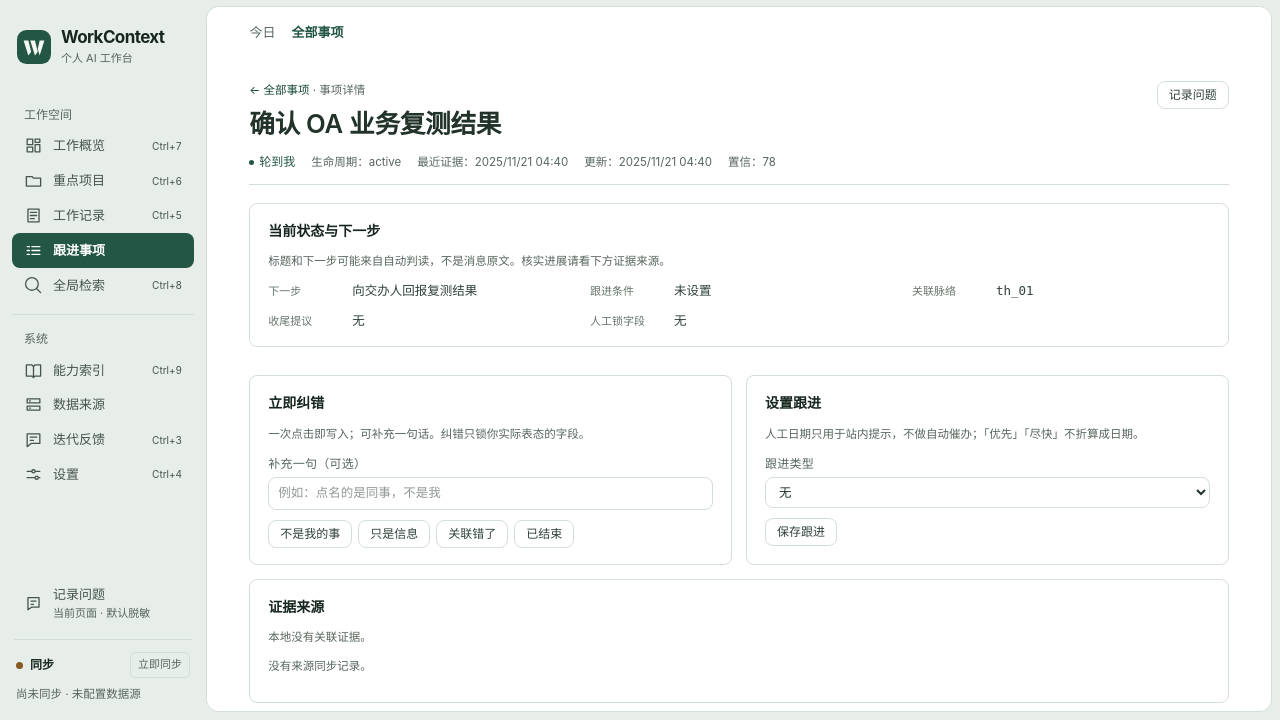
Test: 事项详情 / 纠错 / 收尾 / 跟进 › 从详情记录问题，带上当前事项引用
The image size is (1280, 720).
Click the button "记录问题". click: (1193,95)
box: [1157,81,1229,109]
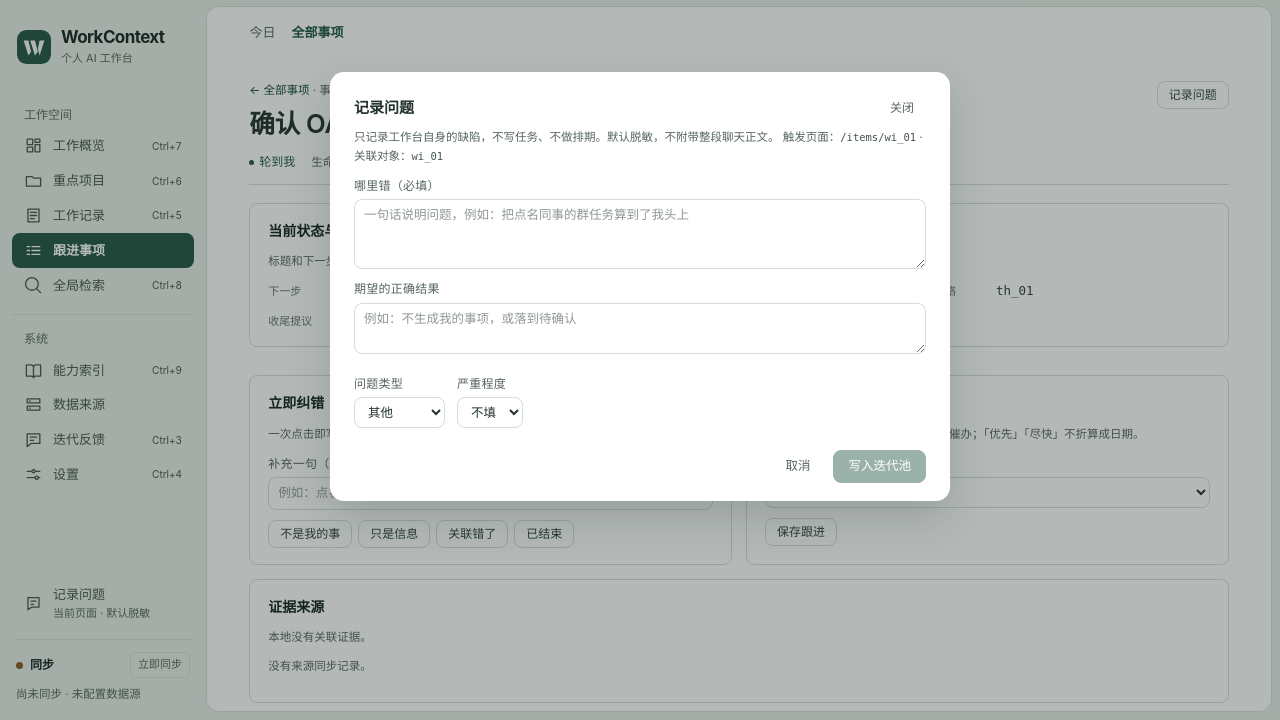
expect the text "/items/wi_01" is shown: met, box [840,131,916,143]
Type "详情页来源标签显示不全" into the text box labelled "哪里错（必填）". click: (640,234)
box: [354,199,926,269]
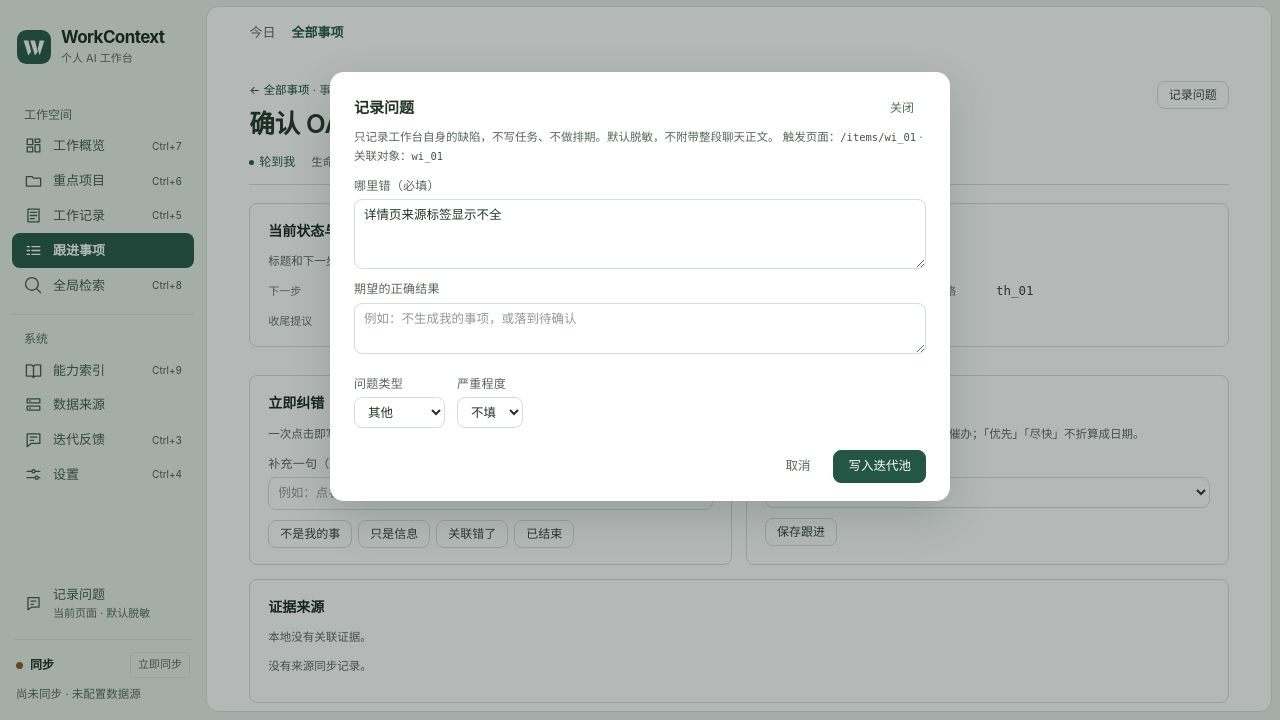
Click the button "写入迭代池". click: (880,467)
box: [834,450,926,483]
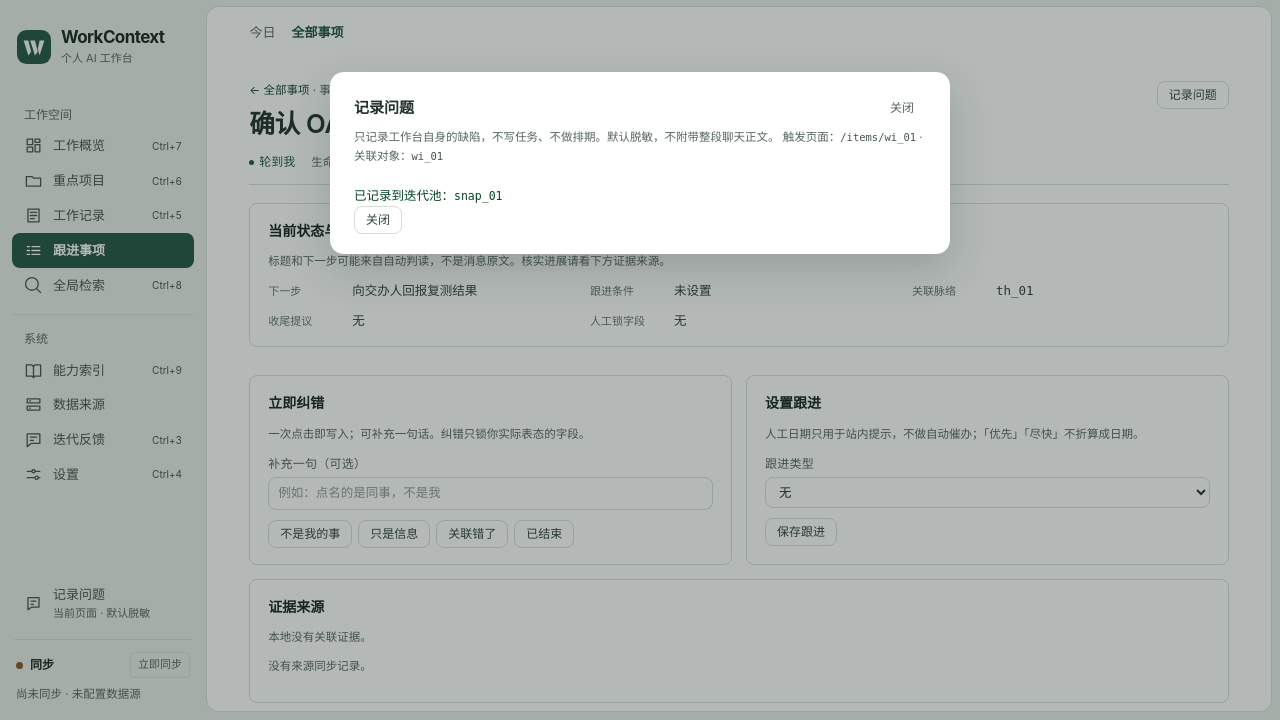
expect the text "已记录到迭代池：snap_01" is shown: met, box [354,188,502,203]
